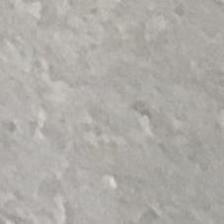Non_Crack: (36, 47, 208, 166)
